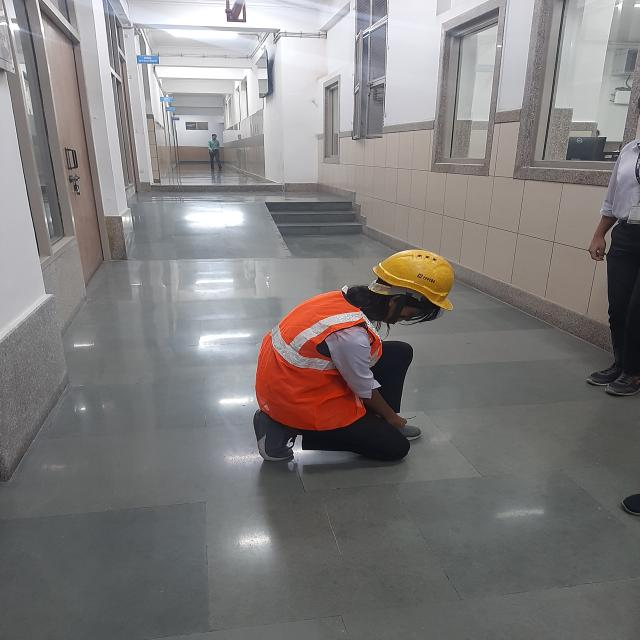safe: (244, 240, 473, 480)
unsafe: (206, 131, 224, 170)
